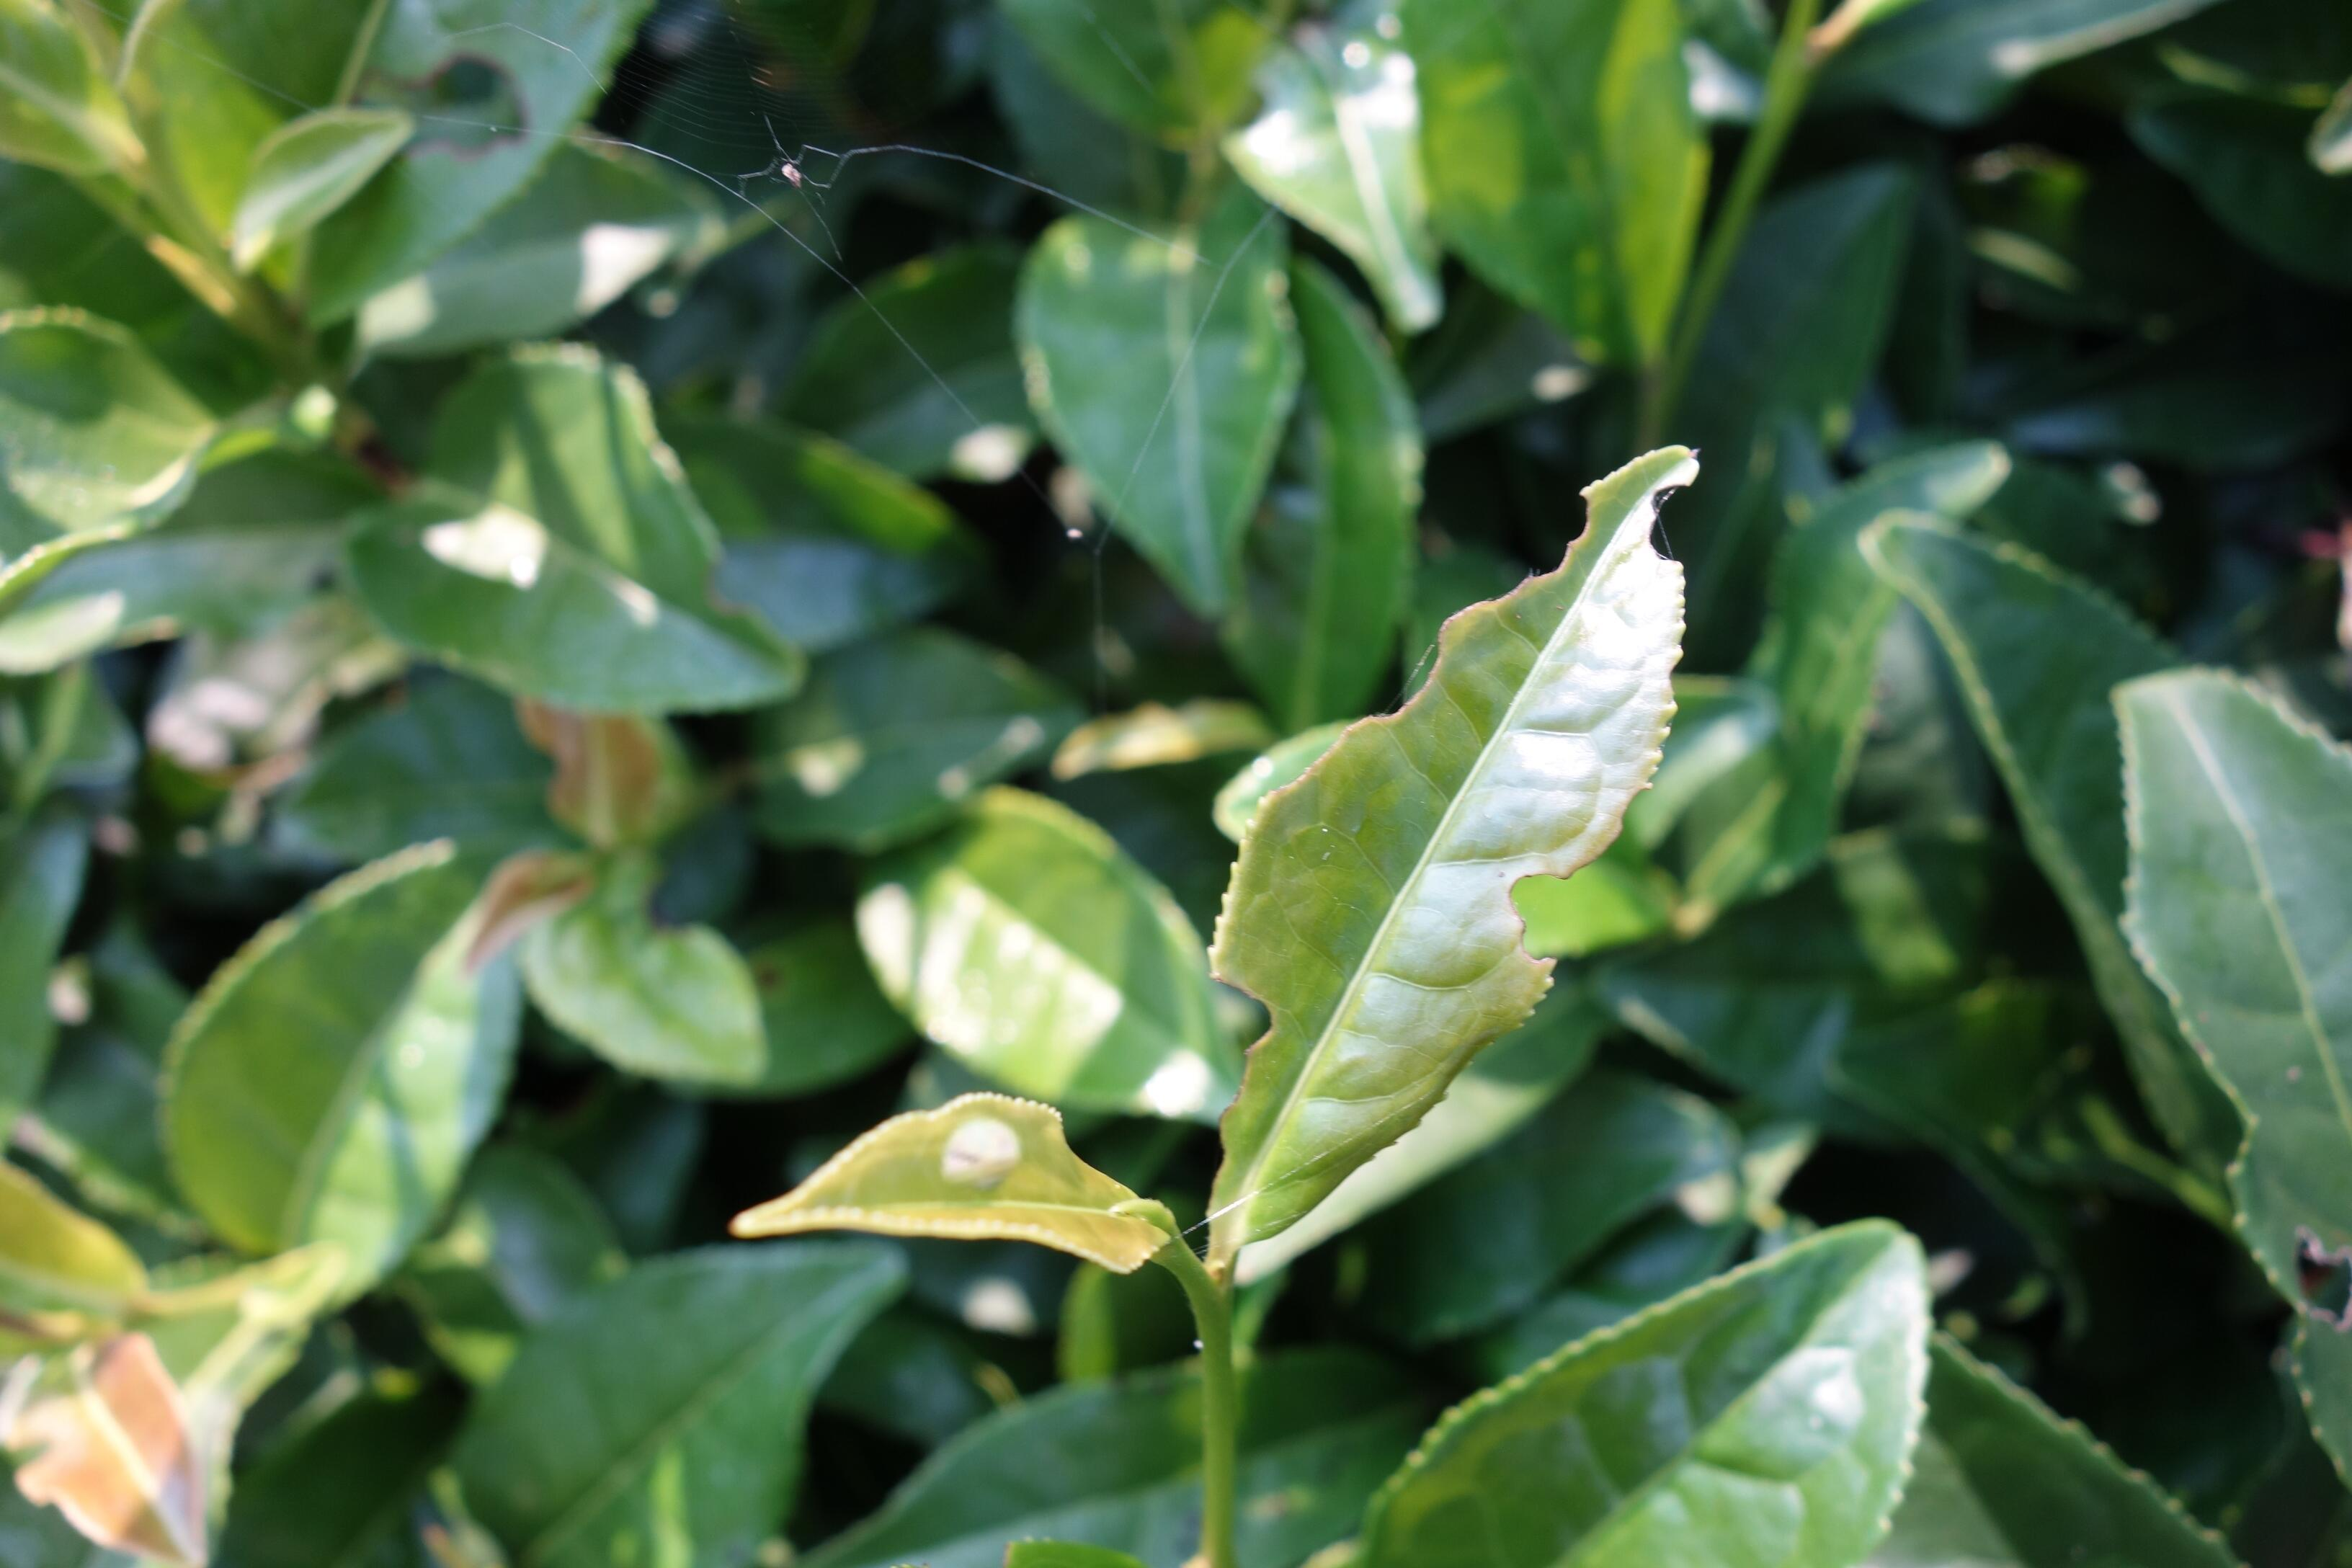chabing_low: (728, 1090, 1172, 1274)
chihuo_high: (1204, 439, 1703, 1272)
